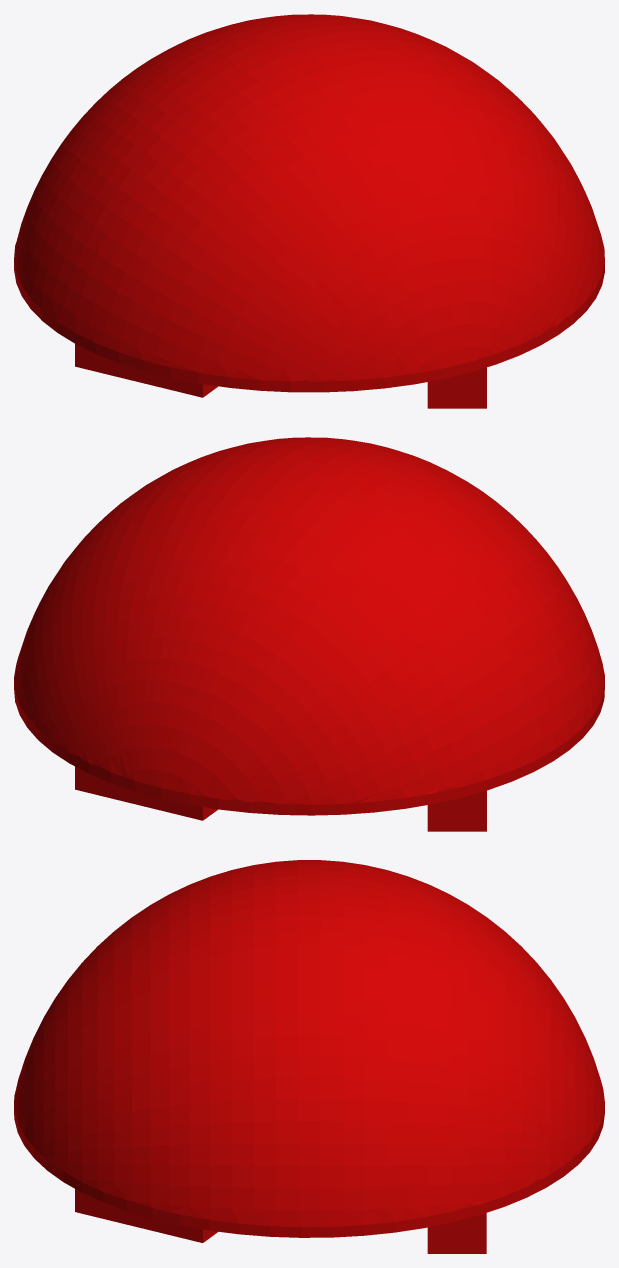
The model's file is gurdy.dae.
3 renders of one model, top to bottom at view 1: azimuth 30°, elevation 25°; view 2: azimuth 150°, elevation 25°; view 3: azimuth 270°, elevation 25°, orthographic.
Parts seen in each view (by area): view 1: Gurdy_Head; view 2: Gurdy_Head; view 3: Gurdy_Head.
Part boxes in pixels (<box>): Gurdy_Head: <box>14,14,604,408</box>; Gurdy_Head: <box>14,437,604,831</box>; Gurdy_Head: <box>14,860,604,1253</box>.
Bounding box in the file's own units: 0.1 × 0.1 × 0.0549.
